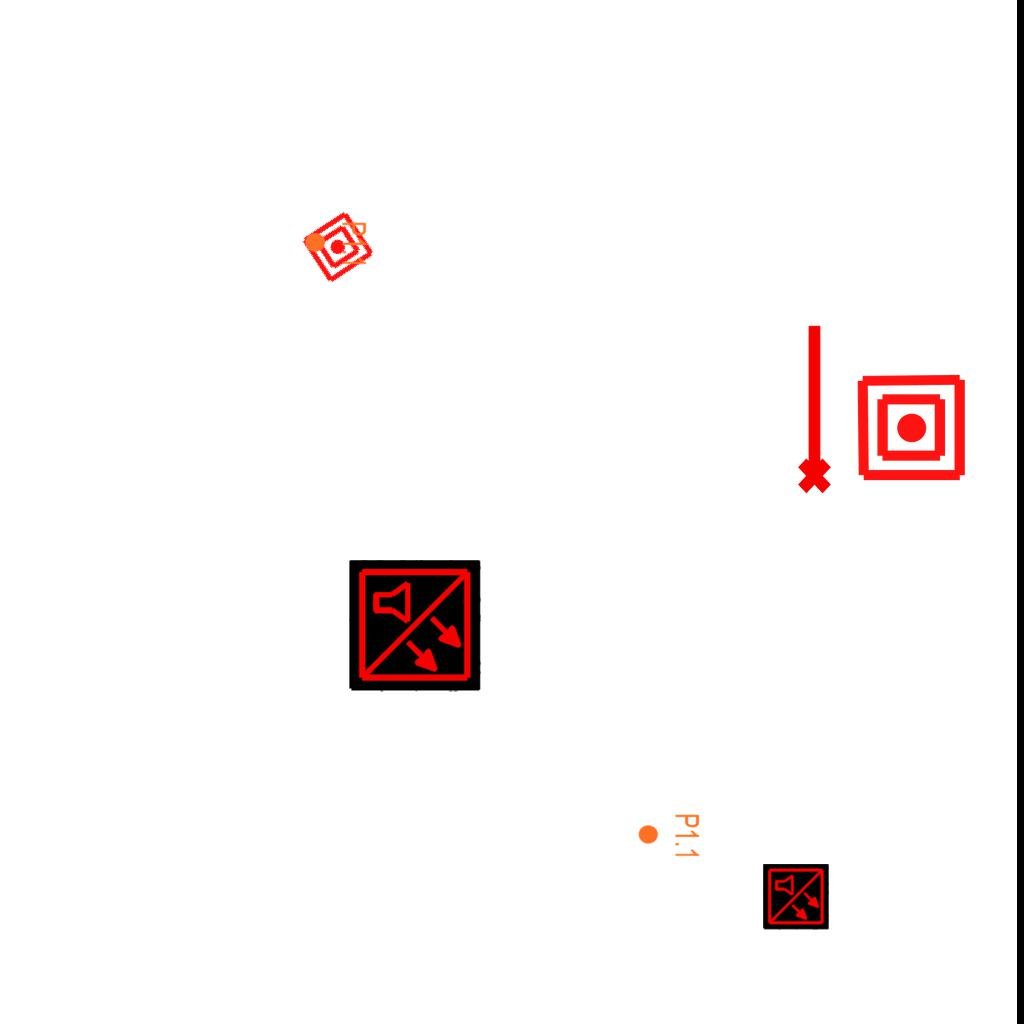ASR_Ansaugoeffnung: (789, 320, 835, 496)
Downlight_LED_Einbauleuchten_Flur: (637, 813, 701, 859), (304, 221, 368, 267)
NAM-Nichtautomatischer_Melder: (855, 371, 968, 484), (299, 208, 377, 286)
OKW_Multisensormelder_(Kombination_optischer_Rauch-Kahlenmonoxid_Waerme-Melder): (349, 560, 481, 692), (763, 864, 829, 930)
